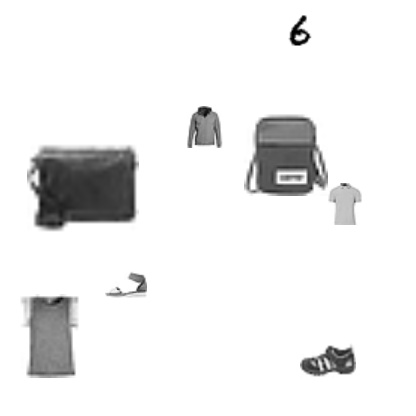6: (278, 11, 320, 53)
Bag: (27, 130, 139, 242), (244, 112, 328, 196)
Coat: (183, 106, 225, 148)
Sandal: (300, 332, 356, 388), (105, 263, 147, 305)
T-shirt/top: (6, 294, 90, 378), (324, 183, 366, 225)
